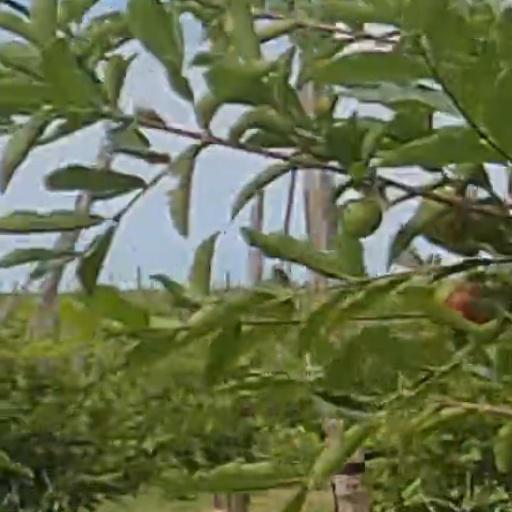acerola_verde: (340, 200, 377, 236)
acerola_vermelha: (452, 287, 488, 321)
